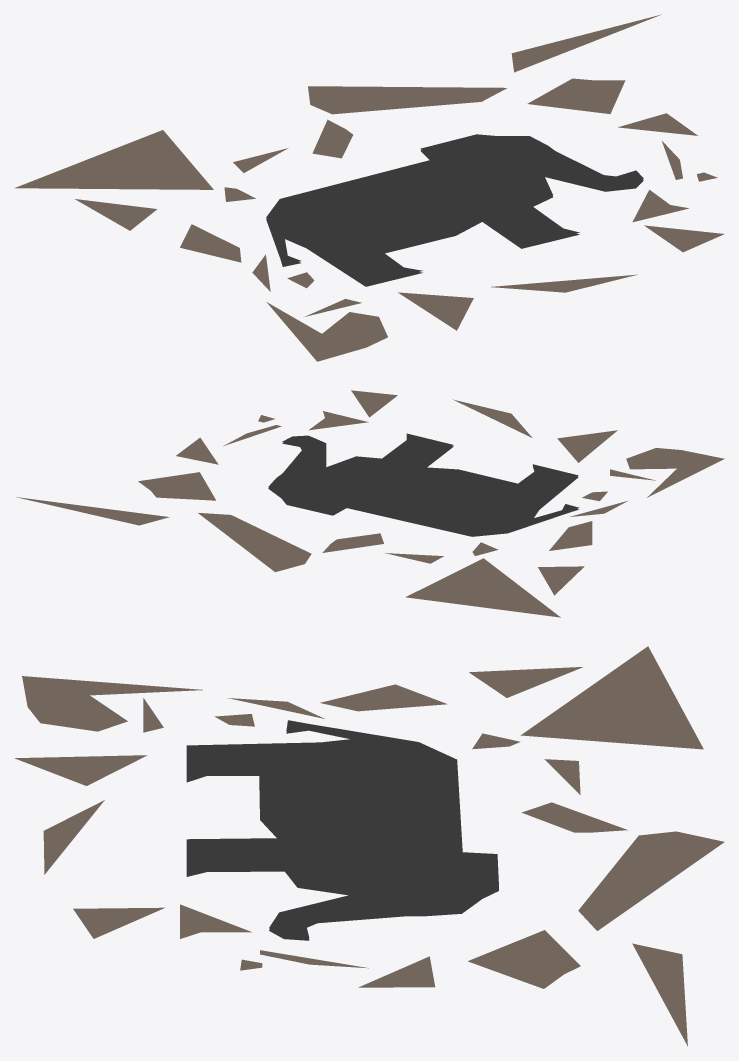
Rendered from Elefante.fbx.
3 views of the same model, one above another, from view 1: azimuth 30°, elevation 25°; view 2: azimuth 150°, elevation 25°; view 3: azimuth 270°, elevation 25° (orthographic). The views are drawn at different scales.
Parts seen in each view (by area): view 1: Plane.047, Plane.071, Plane.066, Plane.052, Plane.073, Plane.045, Plane.078, Plane.039, Plane.070, Plane.048, Plane.064, Plane.054 (+15 smaller); view 2: Plane.071, Plane.047, Plane.052, Plane.066, Plane.045, Plane.073, Plane.078, Plane.039, Plane.070, Plane.048, Plane.037, Plane.064 (+15 smaller); view 3: Plane.071, Plane.047, Plane.052, Plane.066, Plane.045, Plane.073, Plane.078, Plane.039, Plane.048, Plane.070, Plane.054, Plane.064 (+16 smaller).
Part boxes in pixels (x1=…): Plane.047: x1=282, y1=160, x2=481, y2=219; Plane.071: x1=14, y1=130, x2=213, y2=189; Plane.066: x1=308, y1=86, x2=506, y2=114; Plane.052: x1=282, y1=218, x2=481, y2=246; Plane.073: x1=266, y1=302, x2=387, y2=361; Plane.045: x1=431, y1=160, x2=552, y2=219; Plane.078: x1=527, y1=78, x2=625, y2=113; Plane.039: x1=431, y1=134, x2=529, y2=169; Plane.070: x1=511, y1=14, x2=661, y2=72; Plane.048: x1=279, y1=160, x2=429, y2=217; Plane.064: x1=398, y1=292, x2=473, y2=330; Plane.054: x1=307, y1=246, x2=382, y2=284; Plane.071: x1=405, y1=558, x2=560, y2=617; Plane.047: x1=347, y1=467, x2=501, y2=526; Plane.052: x1=425, y1=467, x2=538, y2=526; Plane.066: x1=198, y1=513, x2=311, y2=572; Plane.045: x1=326, y1=456, x2=424, y2=505; Plane.073: x1=626, y1=448, x2=724, y2=497; Plane.078: x1=138, y1=472, x2=215, y2=500; Plane.039: x1=268, y1=478, x2=346, y2=506; Plane.070: x1=16, y1=497, x2=169, y2=525; Plane.048: x1=348, y1=506, x2=502, y2=534; Plane.037: x1=268, y1=442, x2=578, y2=536; Plane.064: x1=557, y1=430, x2=617, y2=462; Plane.071: x1=520, y1=646, x2=703, y2=749; Plane.047: x1=279, y1=749, x2=462, y2=851; Plane.052: x1=260, y1=738, x2=406, y2=837; Plane.066: x1=578, y1=831, x2=724, y2=930; Plane.045: x1=279, y1=838, x2=461, y2=893; Plane.073: x1=22, y1=676, x2=202, y2=731; Plane.078: x1=468, y1=930, x2=580, y2=988; Plane.039: x1=386, y1=852, x2=498, y2=911; Plane.048: x1=407, y1=749, x2=462, y2=851; Plane.070: x1=632, y1=943, x2=687, y2=1046; Plane.054: x1=187, y1=742, x2=319, y2=773; Plane.064: x1=15, y1=755, x2=147, y2=785.
Bounding box in the file's own units: 618 × 1.77 × 463.
